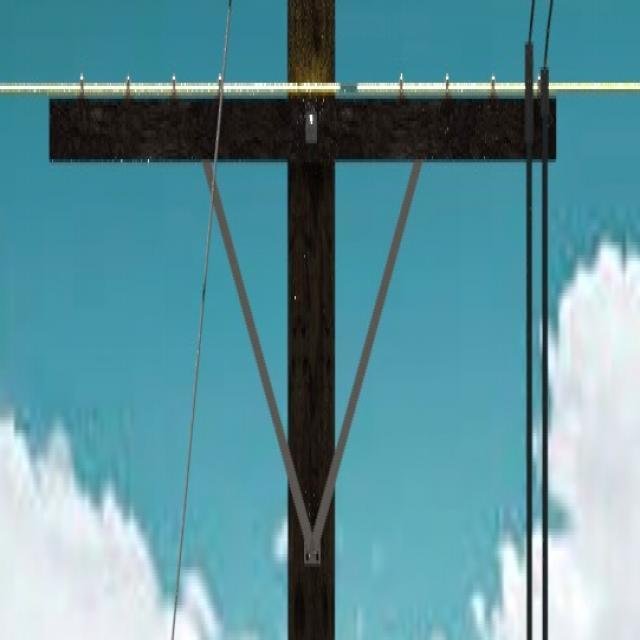crossarm: (204, 156, 424, 562), (47, 89, 551, 169)
pole: (286, 1, 336, 634)
